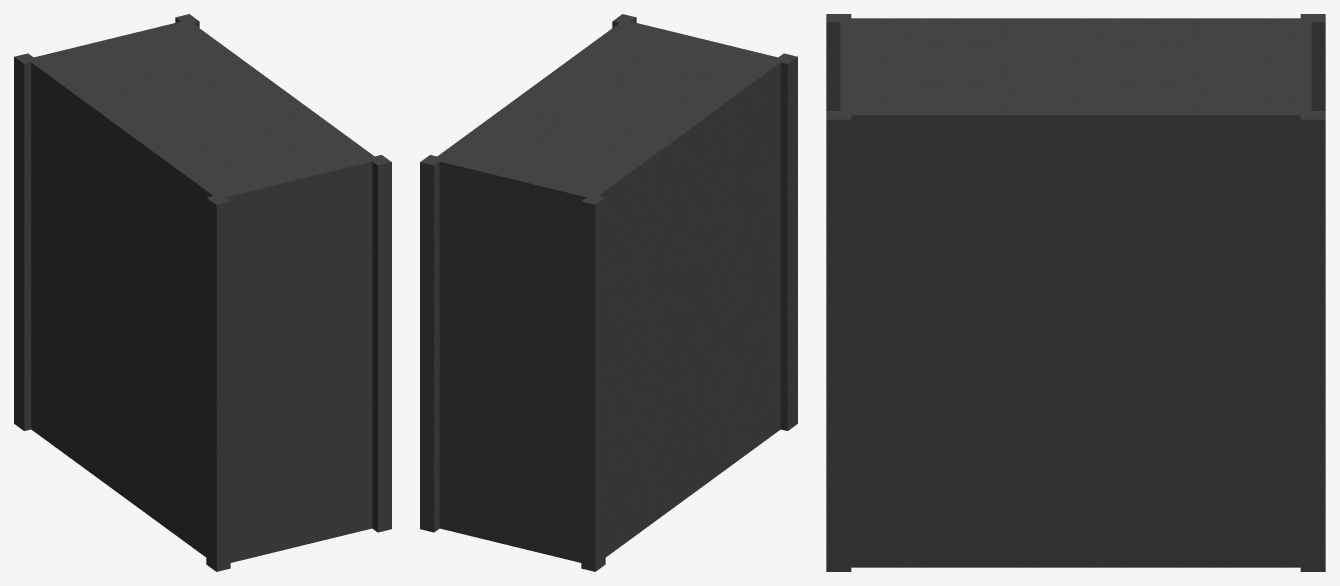
The model's file is WallPiece_01_Mid.fbx.
3 views of the same model, side by side, from view 1: azimuth 30°, elevation 25°; view 2: azimuth 150°, elevation 25°; view 3: azimuth 270°, elevation 25° (orthographic). The views are drawn at different scales.
Visible parts, largest first — view 1: Corridor_WallPiece_01_Mid; view 2: Corridor_WallPiece_01_Mid; view 3: Corridor_WallPiece_01_Mid.
Part boxes in pixels (box(x1,y1,x2,y2)): Corridor_WallPiece_01_Mid: box(14, 14, 391, 571); Corridor_WallPiece_01_Mid: box(420, 14, 797, 571); Corridor_WallPiece_01_Mid: box(826, 14, 1325, 571).
Size of the model in its own units: 50 by 100 by 100.
1 material, 1 textured.
